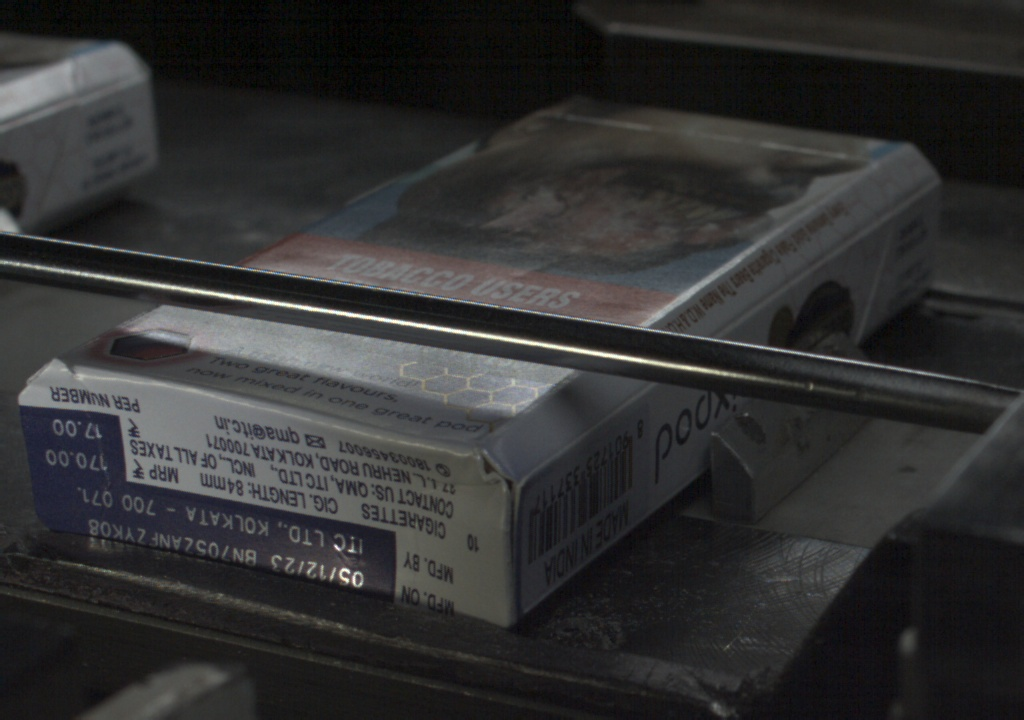g_lmiter: (796, 216, 883, 278), (716, 278, 797, 333), (581, 385, 648, 433), (523, 434, 581, 477)
g_miter: (891, 177, 943, 214)
ng_bottom: (18, 364, 125, 547), (422, 443, 516, 518)
ng_label: (35, 486, 398, 601)
price: (29, 408, 124, 481)
